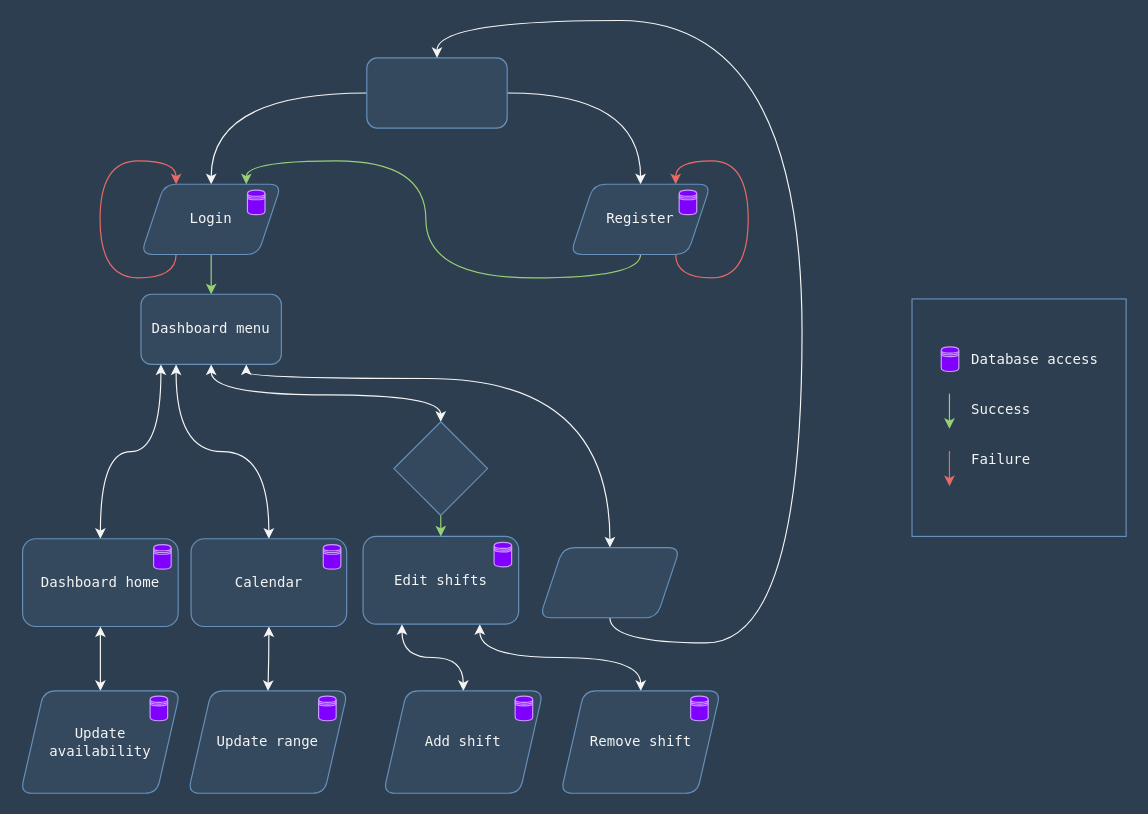
Some shapes in this 1148 by 814 pixel diagram are drawn without their labels. Here are the shapes that lost their labels. From the top down, the centre of each, then its label:
point 436,92: Landing page
point 440,468: manager?
point 609,582: Logout
